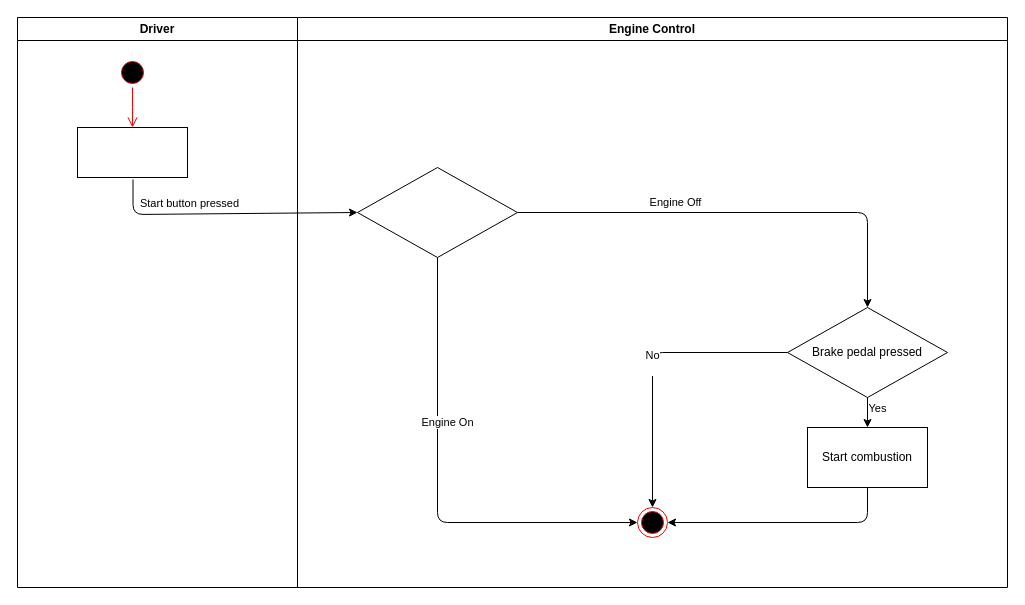
The diagram is 1025 pixels wide and 605 high, and some of its shapes have lost their labels. The shapes that lost their labels are listed below. From the top down, each one's centre as x and y in pixels, then its label:
At pixel 132 152: "Starts car".
At pixel 437 212: "Engine status".
